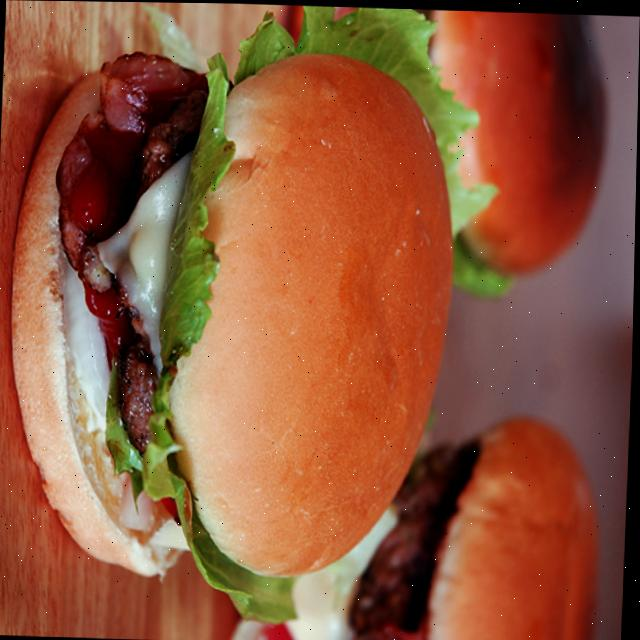汉堡快餐: (0, 33, 472, 603)
